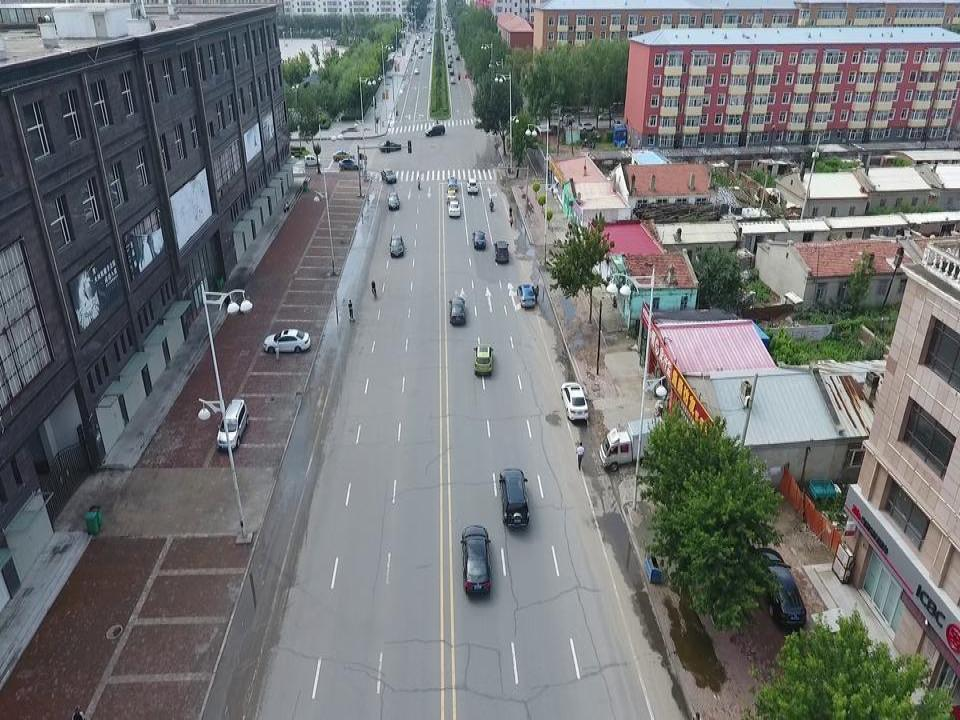car: (755, 536, 810, 633), (460, 518, 495, 598), (214, 395, 256, 460), (499, 468, 531, 531), (263, 328, 312, 356), (560, 380, 593, 420), (474, 340, 496, 377), (445, 295, 467, 326), (515, 280, 536, 309), (388, 232, 405, 263), (492, 239, 510, 265), (301, 150, 324, 170), (470, 229, 488, 252), (463, 172, 480, 196), (331, 146, 356, 162), (337, 154, 362, 170), (378, 138, 403, 154), (387, 191, 402, 213), (597, 109, 618, 123), (556, 109, 577, 123), (381, 168, 398, 185), (578, 119, 599, 132)
truck: (598, 412, 673, 473)
van: (424, 120, 448, 140)
